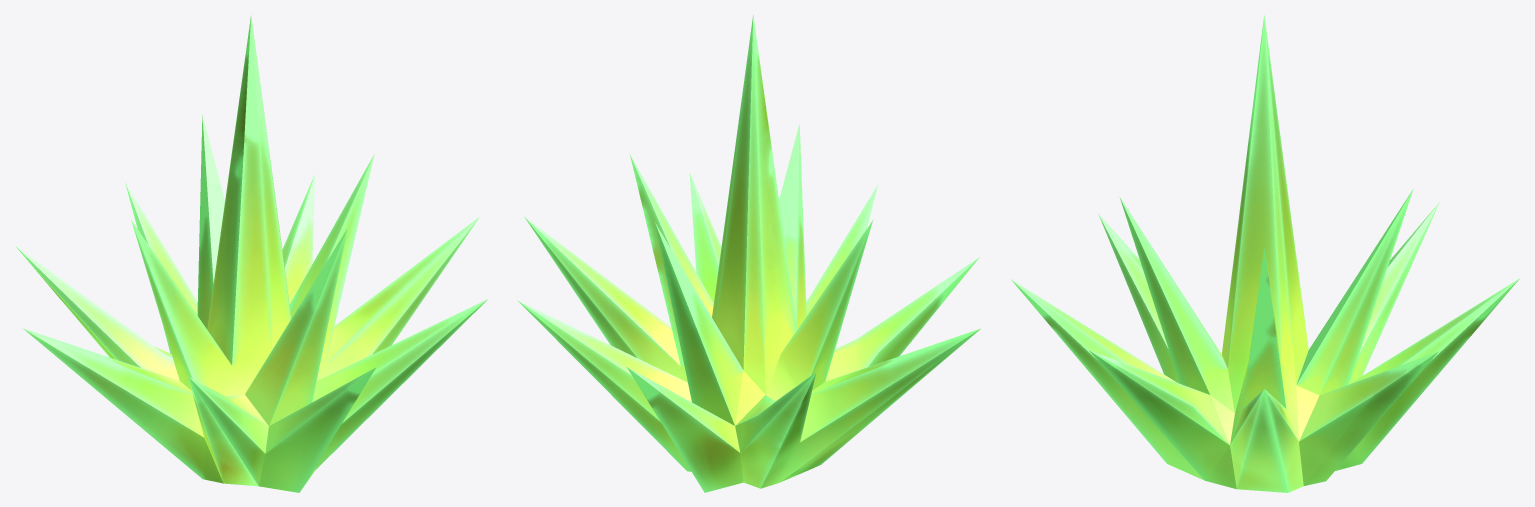
File: crystal_sharp_green.fbx
3 views of the same model, side by side, from view 1: azimuth 30°, elevation 25°; view 2: azimuth 150°, elevation 25°; view 3: azimuth 270°, elevation 25° (orthographic).
Parts seen in each view (by area): view 1: crystal_sharp_green; view 2: crystal_sharp_green; view 3: crystal_sharp_green.
Boxes of the visible parts, bbox=[...] form: crystal_sharp_green: bbox=[15, 14, 487, 492]; crystal_sharp_green: bbox=[517, 15, 980, 492]; crystal_sharp_green: bbox=[1011, 15, 1519, 492].
Bounding box in the file's own units: 1.88 × 1.74 × 1.79.
